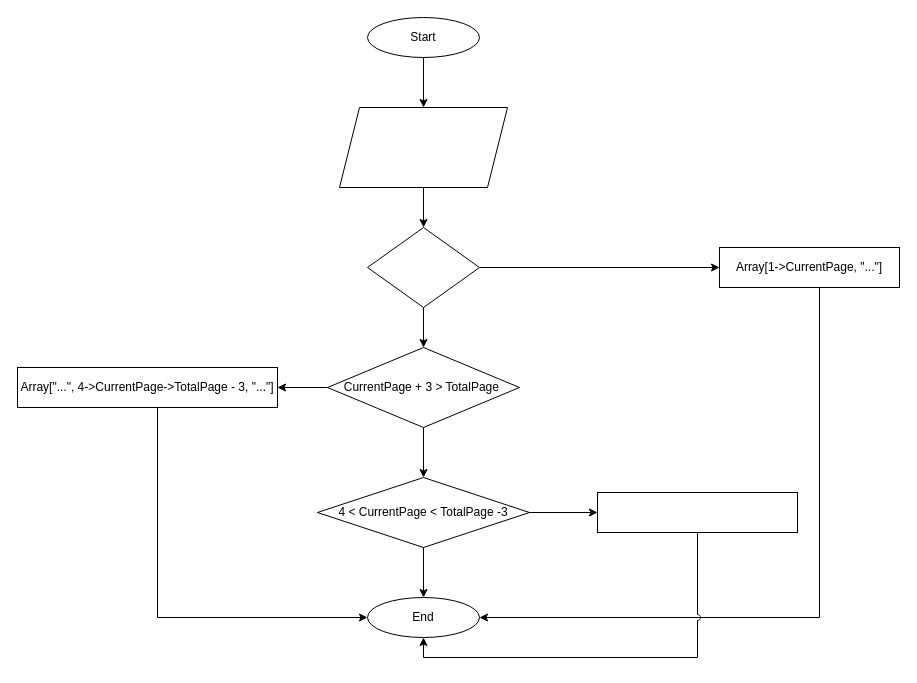
Some shapes in this 917 by 683 pixel diagram are drawn without their labels. The shapes that lost their labels are listed below. From the top down, each one's centre as x and y in pixels, then its label:
[423,147]: Search: Keyword, Pagination: CurrentPage, PageSize, TotalPage
[423,267]: CurrentPage< 4
[697,512]: Array["...",CurrentPage->TotalPage]
